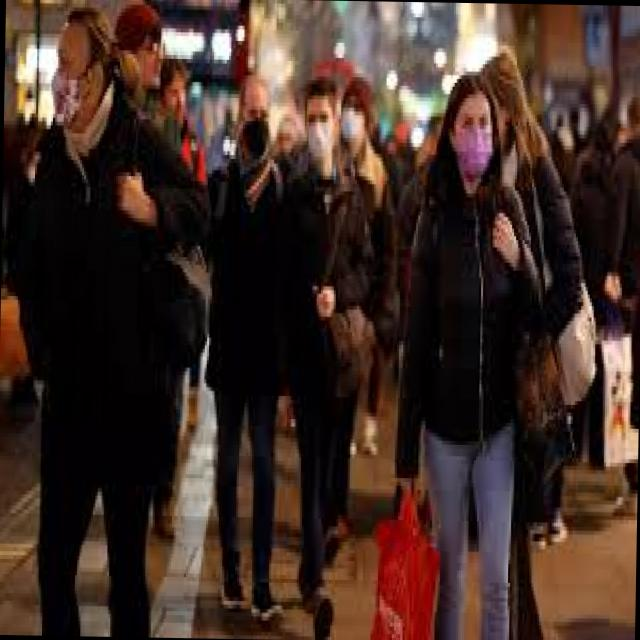Jacket: (11, 99, 196, 485), (383, 180, 538, 477), (277, 164, 388, 421), (198, 173, 295, 404)
